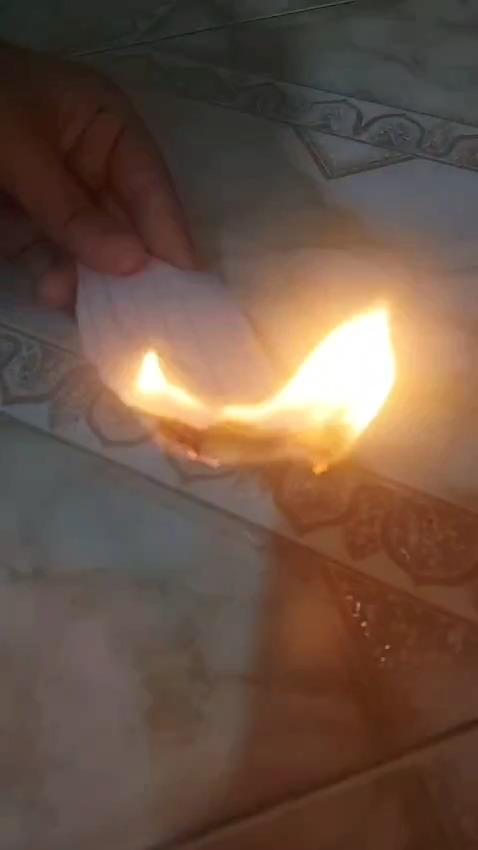Fire: (114, 294, 426, 487)
